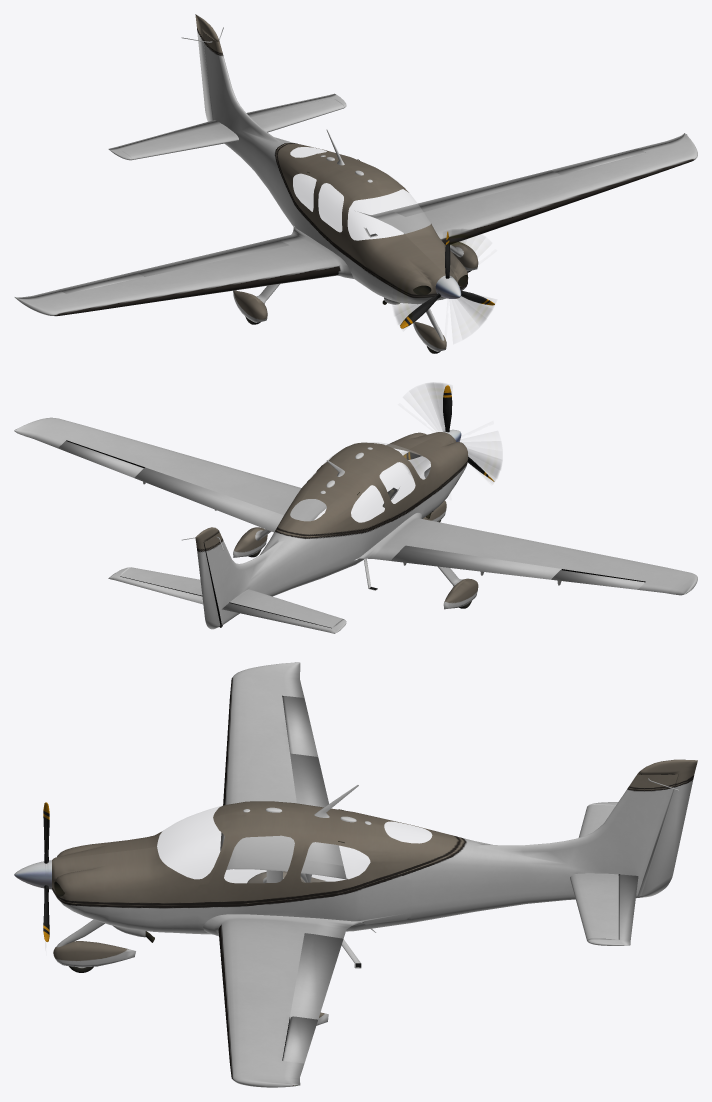
The picture shows the model from 3 angles, top to bottom: view 1: azimuth 30°, elevation 25°; view 2: azimuth 150°, elevation 25°; view 3: azimuth 270°, elevation 25°; orthographic projection. The views are drawn at different scales.
Parts seen in each view (by area): view 1: ailes, fuselage, vitres, ailes2, porteD, voletG, propblur, voletD, profondeur, vitreporteD, direction, helice (+4 smaller); view 2: ailes, fuselage, ailes2, voletG, voletD, vitres, porteD, profondeur, direction, aileronG, vitreporteD, propblur (+6 smaller); view 3: fuselage, ailes, vitres, porteG, direction, ailes2, voletG, vitreporteG, cargo, voletD, cacheA, aileronD (+4 smaller).
Part boxes in pixels (left/top/right/bottom): ailes: left=15, top=133, right=697, bottom=316; fuselage: left=202, top=31, right=468, bottom=304; vitres: left=290, top=147, right=442, bottom=300; ailes2: left=120, top=98, right=344, bottom=159; porteD: left=315, top=171, right=367, bottom=257; voletG: left=390, top=170, right=560, bottom=234; propblur: left=395, top=229, right=493, bottom=326; voletD: left=134, top=238, right=289, bottom=276; profondeur: left=108, top=93, right=346, bottom=160; vitreporteD: left=318, top=183, right=343, bottom=231; direction: left=195, top=14, right=219, bottom=121; helice: left=400, top=231, right=494, bottom=328; ailes: left=14, top=417, right=697, bottom=595; fuselage: left=204, top=432, right=468, bottom=625; ailes2: left=120, top=567, right=342, bottom=627; voletG: left=134, top=467, right=283, bottom=532; voletD: left=391, top=545, right=561, bottom=585; vitres: left=290, top=442, right=430, bottom=522; porteD: left=359, top=449, right=426, bottom=523; profondeur: left=108, top=567, right=346, bottom=633; direction: left=195, top=527, right=220, bottom=629; aileronG: left=58, top=441, right=143, bottom=477; vitreporteD: left=380, top=462, right=415, bottom=503; propblur: left=407, top=383, right=500, bottom=480; fuselage: left=52, top=774, right=677, bottom=934; ailes: left=203, top=662, right=361, bottom=1087; vitres: left=157, top=806, right=431, bottom=882; porteG: left=197, top=814, right=308, bottom=909; direction: left=637, top=759, right=697, bottom=897; ailes2: left=570, top=805, right=618, bottom=939; voletG: left=290, top=933, right=343, bottom=1019; vitreporteG: left=224, top=836, right=294, bottom=882; cargo: left=359, top=875, right=412, bottom=924; voletD: left=290, top=753, right=343, bottom=882; cacheA: left=53, top=941, right=135, bottom=967; aileronD: left=282, top=696, right=318, bottom=756.
Size of the model in its own units: 11.58 by 2.71 by 7.91.
3 materials, 2 textured.
